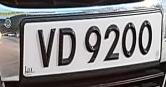0: (137, 14, 154, 62), (121, 16, 138, 63)
2: (104, 17, 121, 67)
9: (83, 20, 102, 69)
D: (56, 23, 80, 68)
V: (35, 25, 58, 70)
